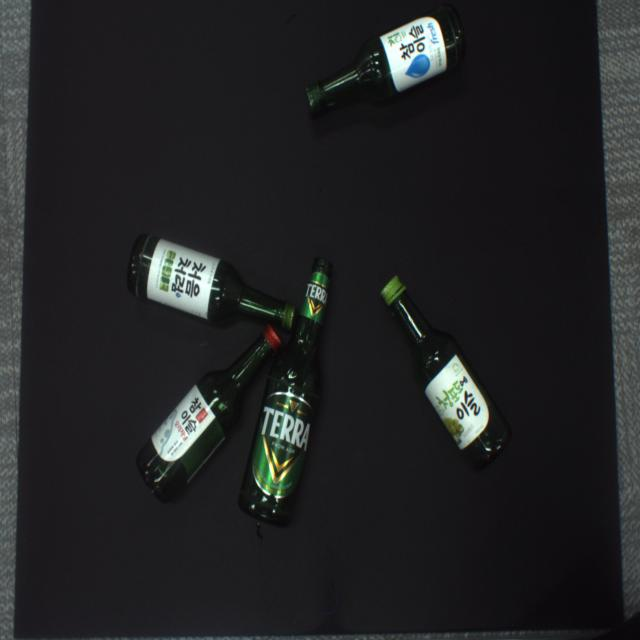beer-bottle: (238, 258, 333, 527)
soju-bottle: (135, 326, 281, 502), (381, 277, 511, 470), (305, 4, 464, 115), (127, 233, 296, 331)
